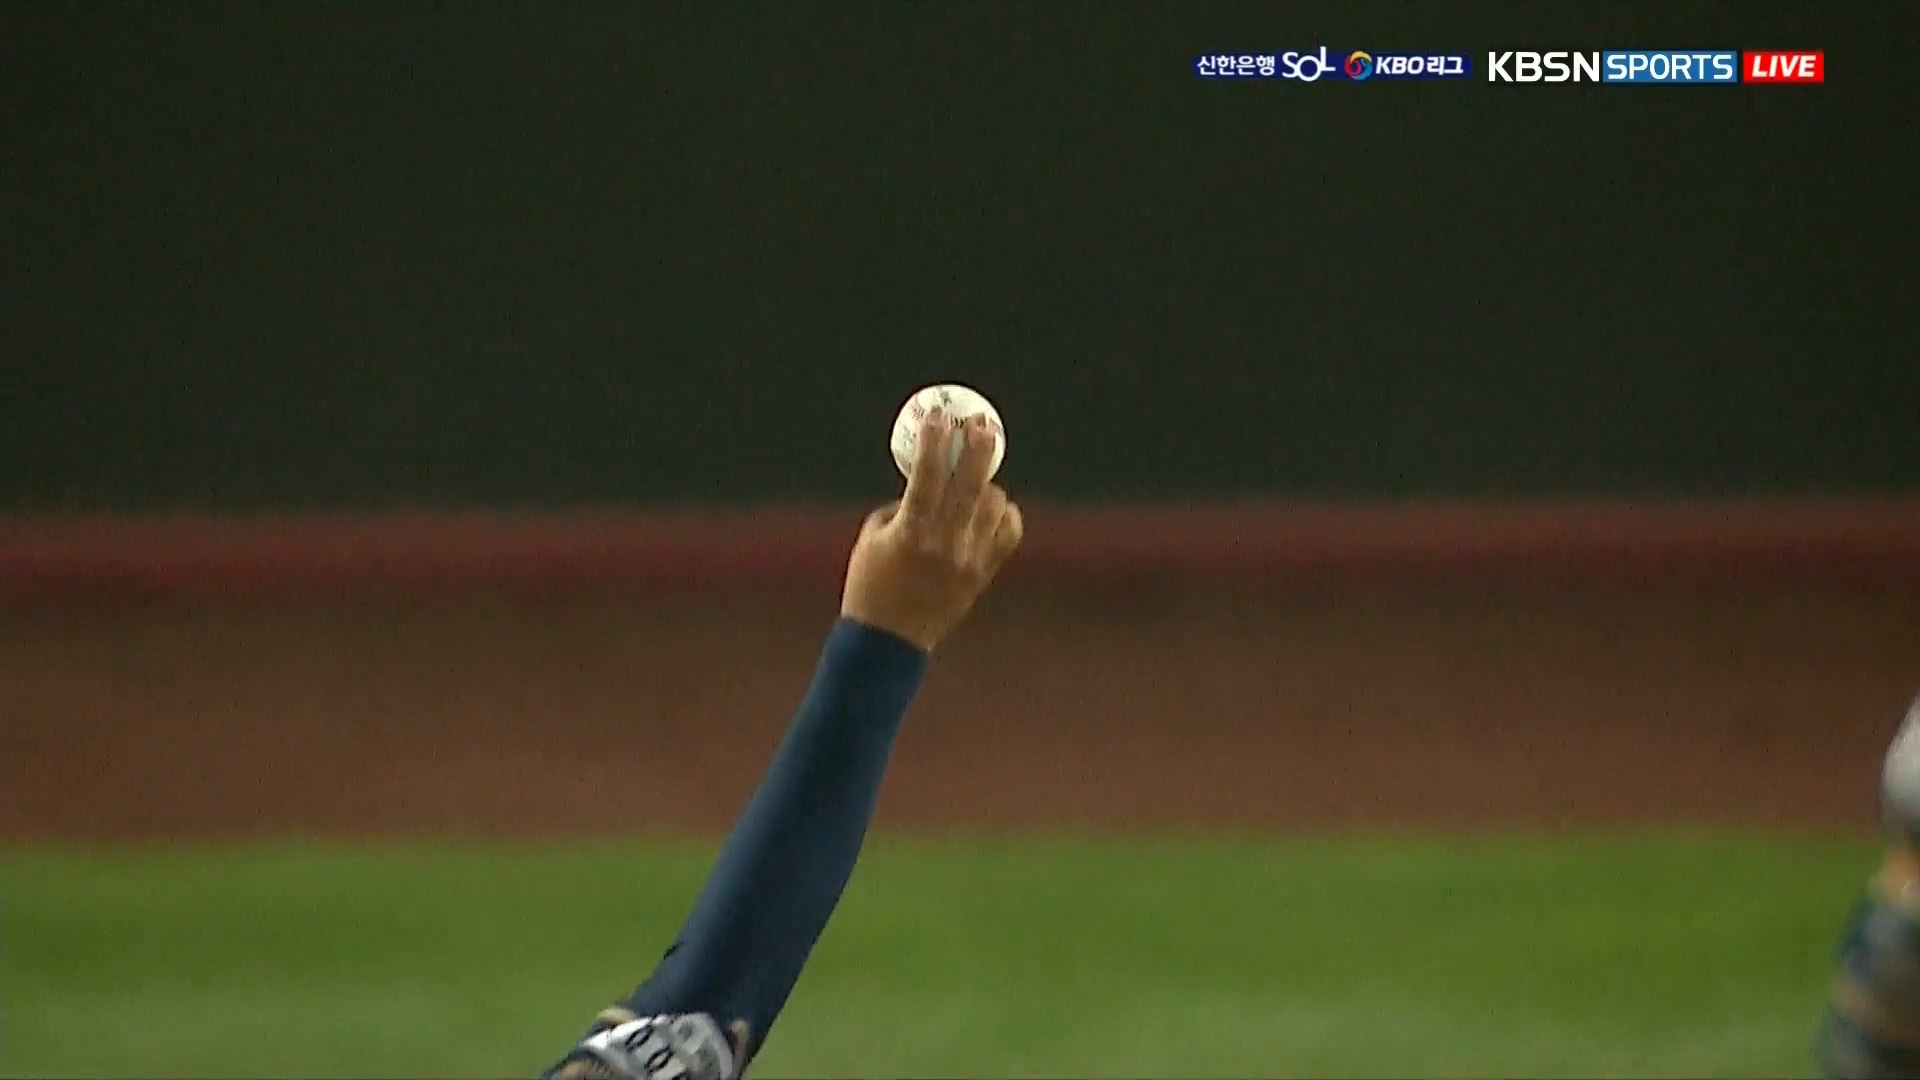zoomin_hand: (655, 368, 1034, 1031)
